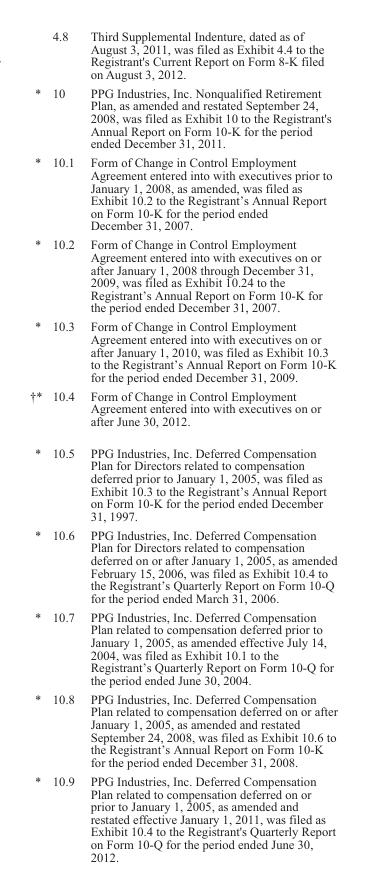table: (29, 28, 336, 863)
table column: (81, 28, 336, 863), (46, 28, 81, 863), (29, 28, 46, 863)
table column header: (29, 28, 336, 83)
table row: (29, 771, 336, 863), (29, 436, 336, 525), (29, 152, 336, 234), (29, 234, 336, 316), (29, 525, 336, 607), (29, 607, 336, 689), (29, 689, 336, 771), (29, 316, 336, 386), (29, 83, 336, 152), (29, 28, 336, 83), (29, 386, 336, 436)
